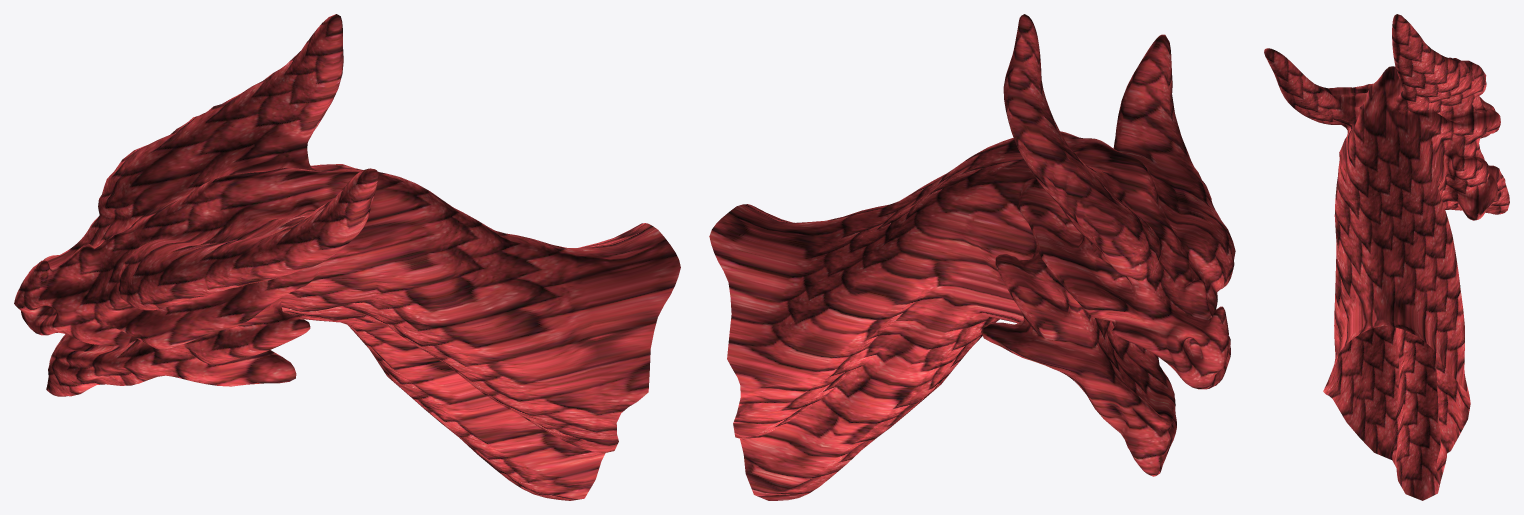
The model's file is Ca_Cen.obj.
3 views of the same model, side by side, from view 1: azimuth 30°, elevation 25°; view 2: azimuth 150°, elevation 25°; view 3: azimuth 270°, elevation 25° (orthographic). The views are drawn at different scales.
Visible parts, largest first — view 1: CabezaCen; view 2: CabezaCen; view 3: CabezaCen.
Part boxes in pixels (x1,y1,x2,y2): CabezaCen: (14,14,680,500); CabezaCen: (709,14,1235,500); CabezaCen: (1264,14,1509,500).
Size of the model in its own units: 2.93 by 2.7 by 1.5.
Materials: 1 (1 with a texture image).
